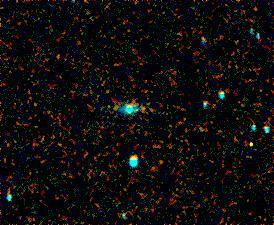star: (243, 124, 273, 154)
